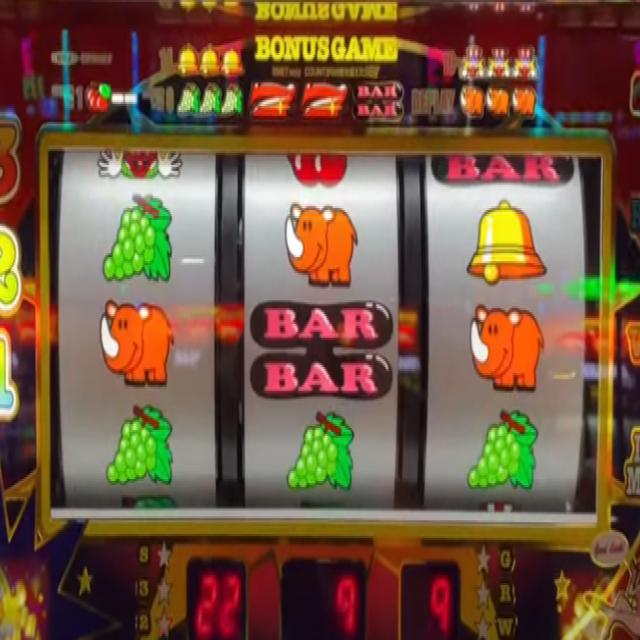bar: (248, 299, 393, 400), (435, 149, 576, 186), (352, 78, 404, 124)
bell: (467, 200, 546, 291), (175, 39, 198, 80), (197, 43, 219, 78), (221, 45, 243, 77)
cherry: (285, 152, 350, 187), (84, 82, 112, 115)
clown: (97, 149, 183, 186), (456, 42, 486, 82), (512, 42, 541, 82), (484, 46, 513, 81)
display: (45, 149, 600, 525)
elephant: (466, 304, 545, 392), (98, 300, 176, 389), (285, 200, 360, 288), (459, 85, 484, 118), (511, 86, 536, 118), (486, 84, 508, 116)
grape: (101, 193, 173, 284), (466, 408, 538, 494), (286, 408, 353, 496), (105, 402, 173, 487), (199, 77, 222, 117), (221, 84, 243, 118), (175, 85, 198, 117)
z: (302, 76, 348, 122), (250, 81, 296, 121)
